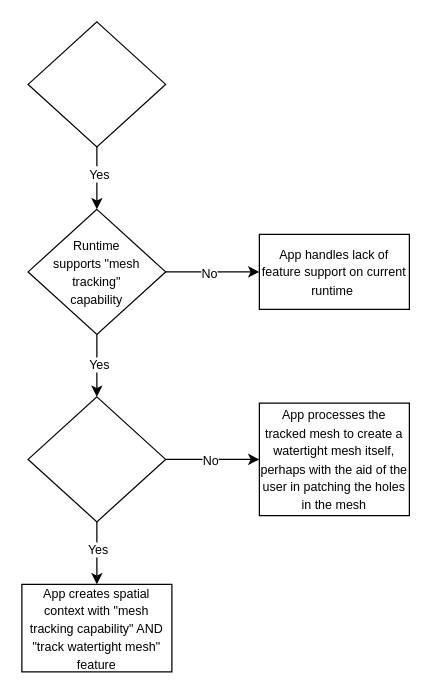
The diagram is 431 pixels wide and 695 high, and some of its shapes have lost their labels. The shapes that lost their labels are listed below. From the top down, each one's centre as x and y in pixels, then its label:
(x=96, y=84): App needs watertight mesh
(x=96, y=459): Runtime supports "track watertight mesh" feature
